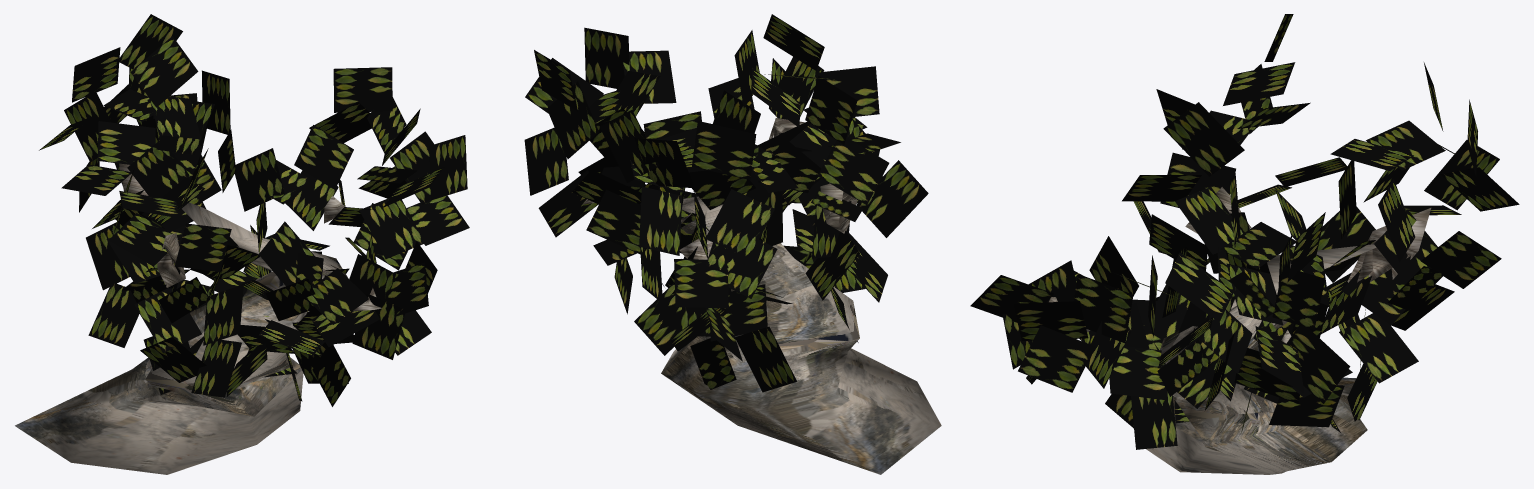
File: tree-layered-07-lod2.glb
The picture shows the model from 3 angles, left to right: view 1: azimuth 30°, elevation 25°; view 2: azimuth 150°, elevation 25°; view 3: azimuth 270°, elevation 25°; orthographic projection. The views are drawn at different scales.
Parts seen in each view (by area): view 1: tree-layered-07_MATERIAL_BATCH; view 2: tree-layered-07_MATERIAL_BATCH; view 3: tree-layered-07_MATERIAL_BATCH.
Part boxes in pixels (x1,y1,x2,y2): tree-layered-07_MATERIAL_BATCH: [15, 14, 469, 474]; tree-layered-07_MATERIAL_BATCH: [524, 14, 941, 474]; tree-layered-07_MATERIAL_BATCH: [970, 14, 1519, 474].
Bounding box in the file's own units: 13.41 × 12.93 × 14.73.
3 materials, 3 textured.
